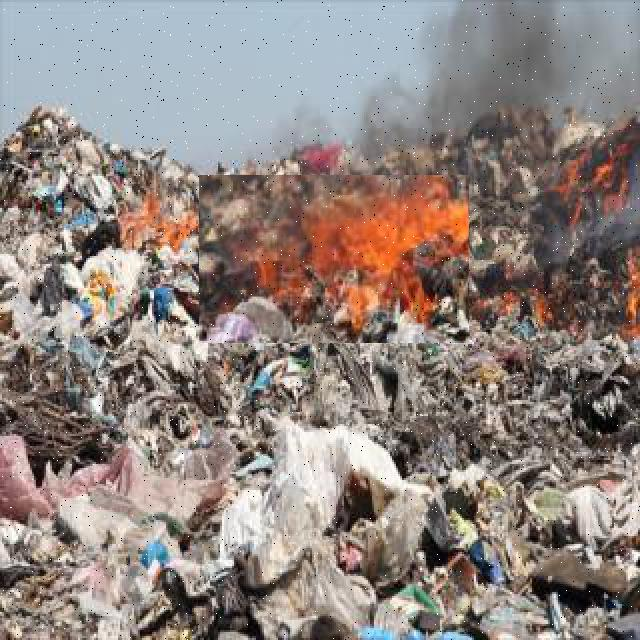fire: (199, 175, 469, 343)
